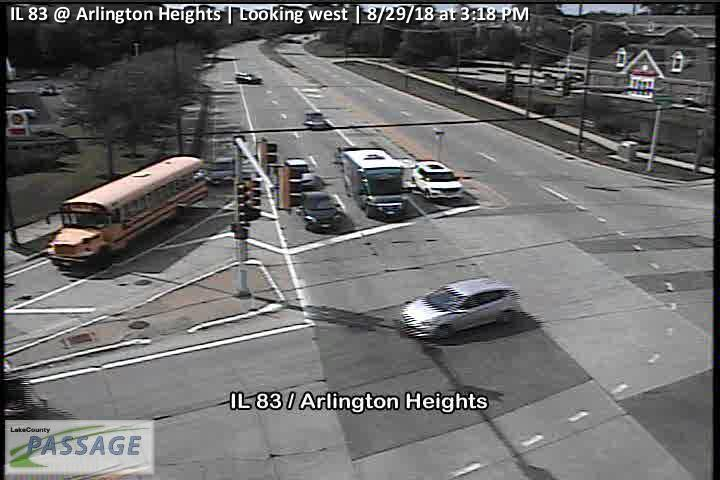Bus: (45, 157, 209, 266)
SUV: (413, 160, 465, 200)
Sedan: (400, 277, 519, 340), (300, 191, 344, 234)
Truck: (342, 149, 405, 221)
